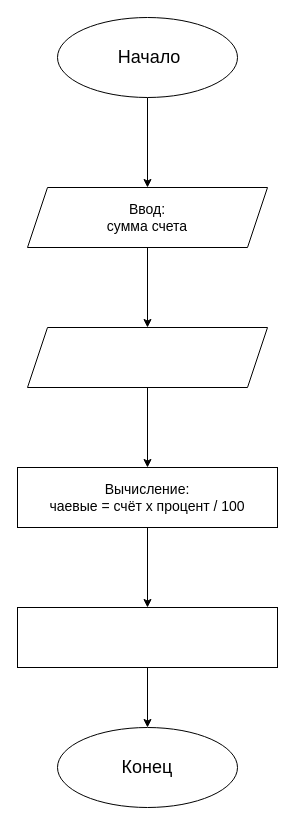
Some shapes in this 295 by 825 pixel diagram are drawn without their labels. Each missing label, with the centre of its shape:
"Ввод: процент чаевых" goes at [147,357].
"Вычисление: итого = счёт + чаевые" goes at [147,637].
